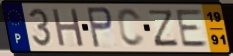3: (25, 7, 53, 48)
C: (116, 7, 147, 49)
E: (175, 8, 211, 49)
H: (50, 7, 86, 48)
P: (84, 6, 114, 50)
Z: (148, 8, 180, 48)
